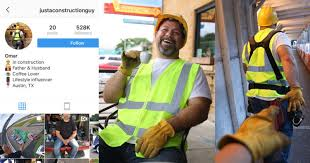hard hat: (153, 13, 189, 35), (257, 5, 279, 25)
high-vis: (96, 56, 199, 157), (241, 28, 290, 98)
